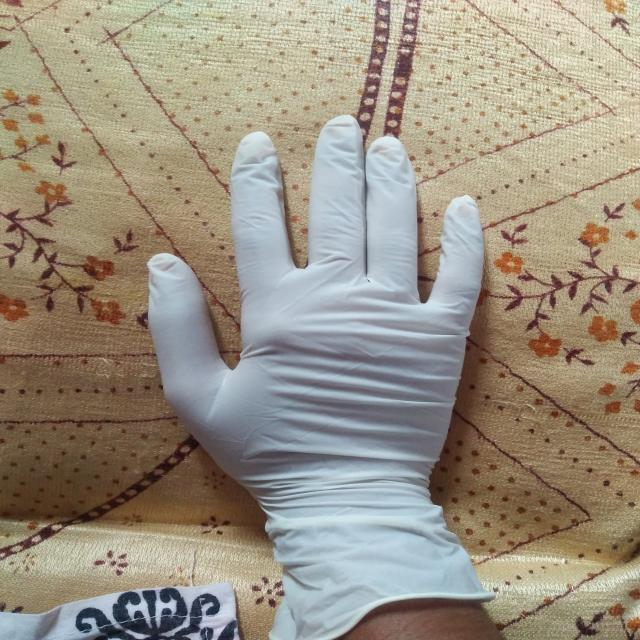glove_hand: (138, 109, 498, 639)
